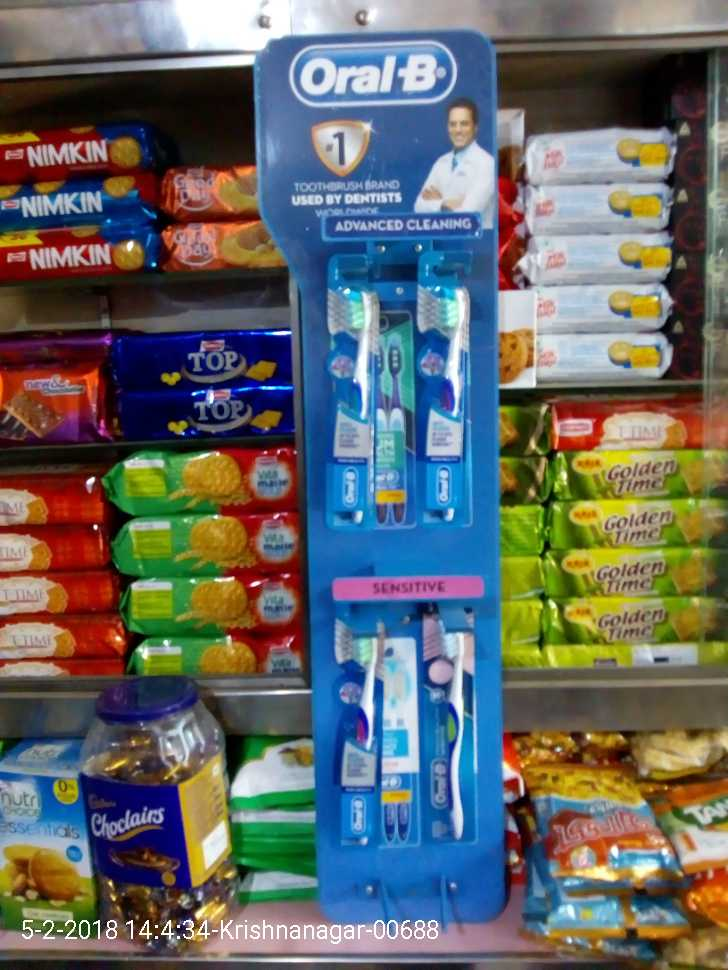oralb: (324, 283, 383, 526), (410, 289, 470, 515), (421, 622, 481, 839), (342, 611, 386, 847)
